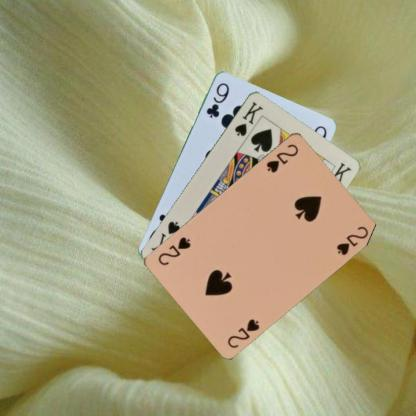2s: (225, 315, 261, 349), (263, 141, 300, 174)
9c: (204, 80, 231, 119)
Ks: (232, 98, 264, 138)
